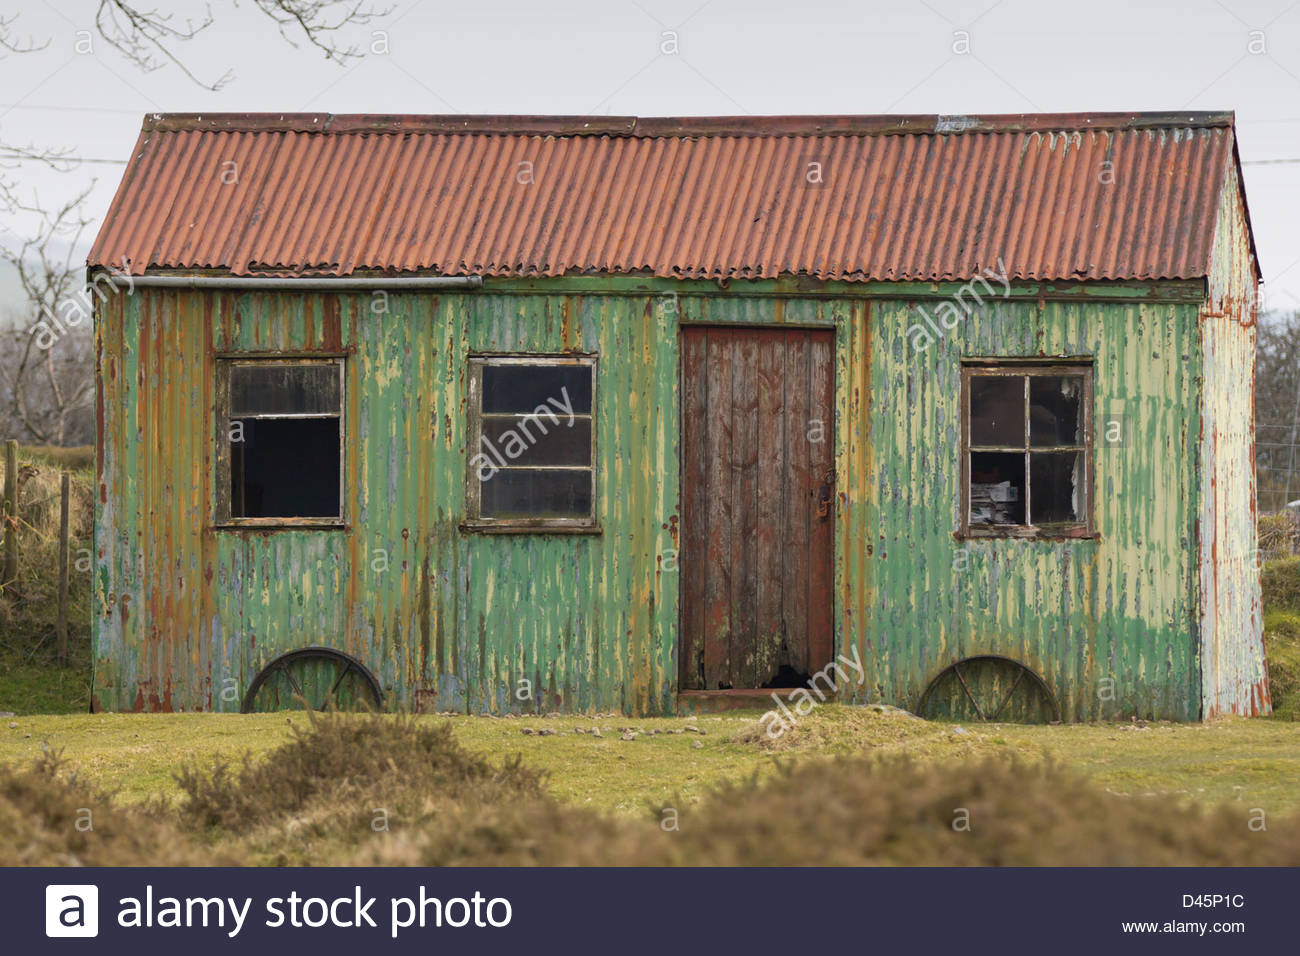Tin-shade House: (101, 86, 1235, 723)
